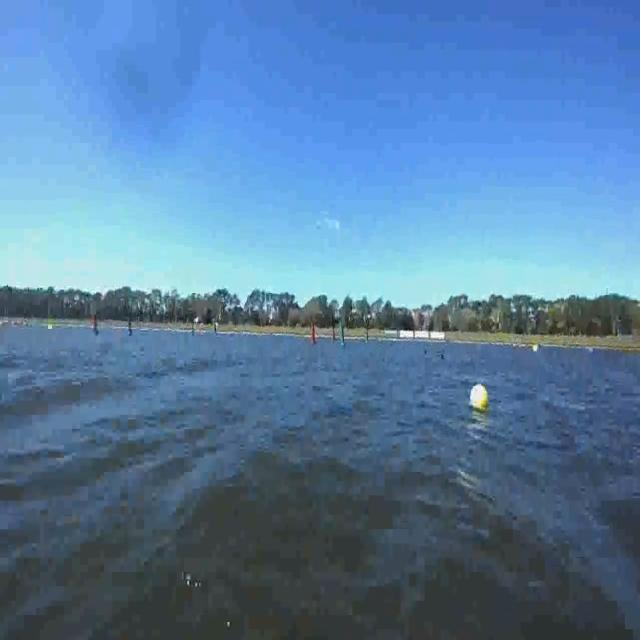green-column-buoy: (340, 319, 348, 350), (128, 313, 136, 336), (364, 327, 369, 345)
red-column-buoy: (92, 312, 102, 335), (308, 324, 316, 348), (330, 326, 337, 342)
yellow-buoy: (472, 383, 489, 408)
